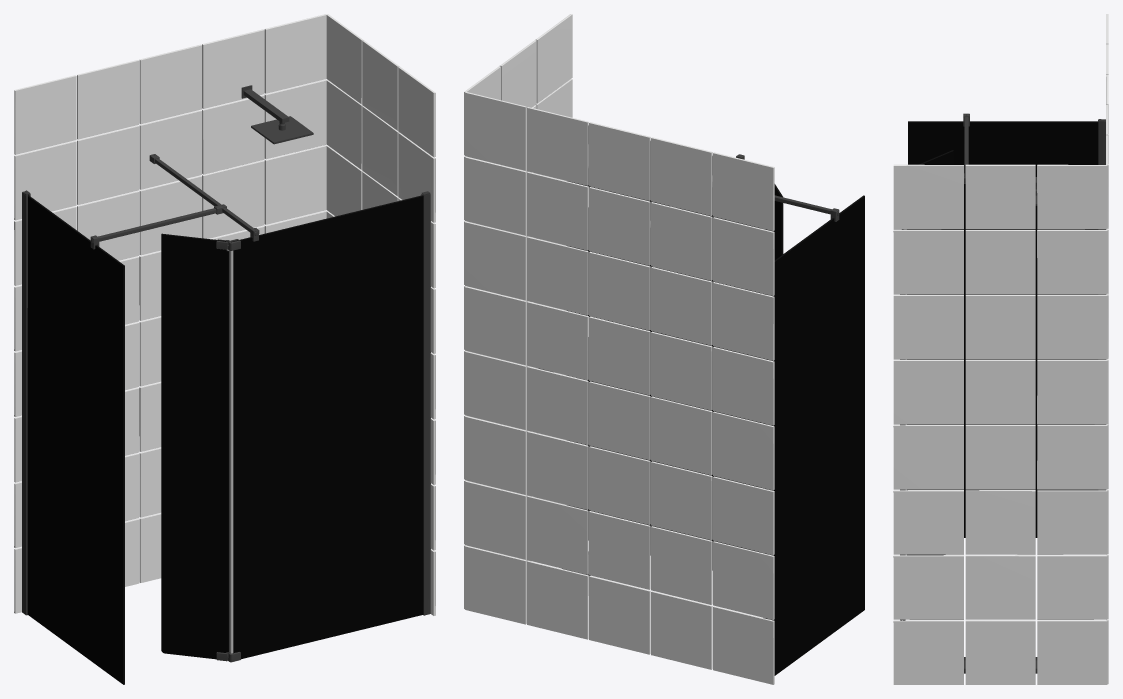
The model's file is shower_cubicle.glb.
3 renders of one model, left to right at view 1: azimuth 30°, elevation 25°; view 2: azimuth 150°, elevation 25°; view 3: azimuth 270°, elevation 25°, orthographic.
Visible parts, largest first — view 1: shower_cubicle; view 2: shower_cubicle; view 3: shower_cubicle.
Boxes of the visible parts, x1,y1,x2,y2 form: shower_cubicle: (14, 14, 435, 684); shower_cubicle: (464, 14, 864, 684); shower_cubicle: (893, 14, 1108, 684).
Bounding box in the file's own units: 1.53 × 2.46 × 0.9135.
Materials: 2 (2 with a texture image).
